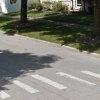Crosswalk: (5, 61, 99, 100)
